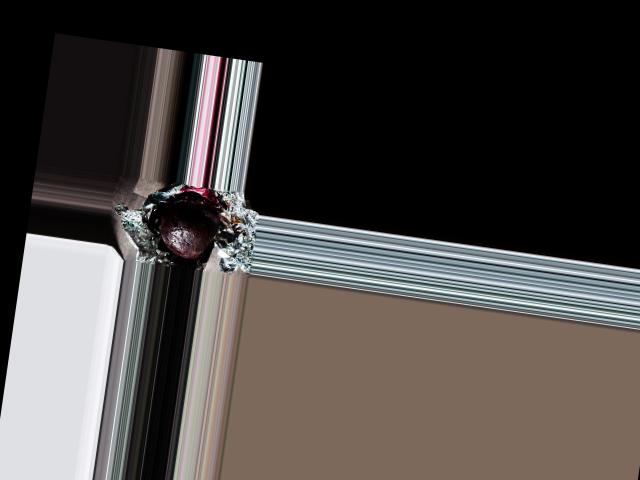beet: (155, 198, 223, 262)
